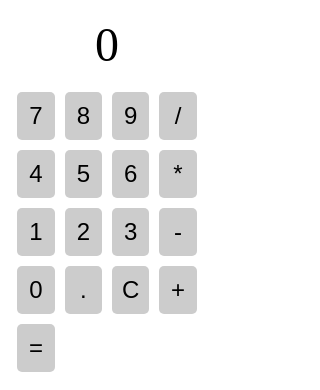
Scenario: Testando o Calculator › Deve retornar NaN
Click the button "4" at x=36, y=174, box [17,150,55,198]
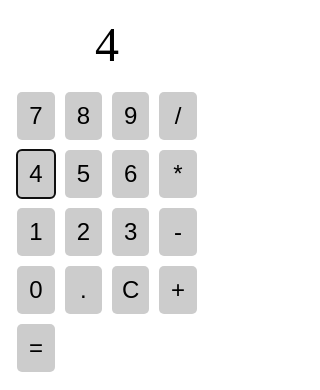
Click the button "/" at x=178, y=116, box [159,92,197,140]
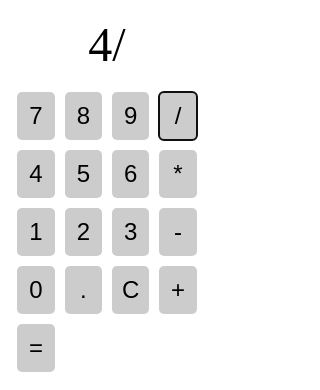
Click the button "0" at x=36, y=290, box [17,266,55,314]
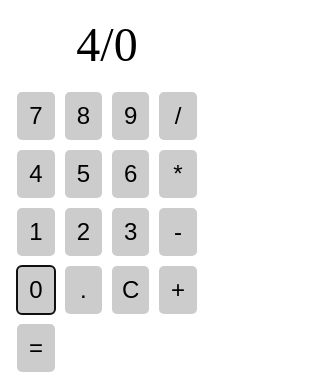
Click the button "=" at x=36, y=348, box [17,324,55,372]
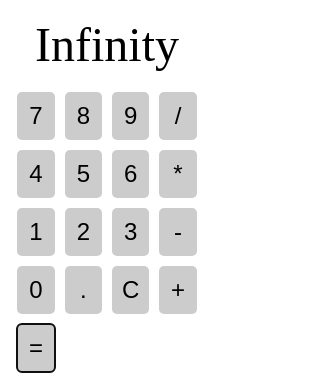
Result: the text "Infinity" is shown at [35,16,179,72]
